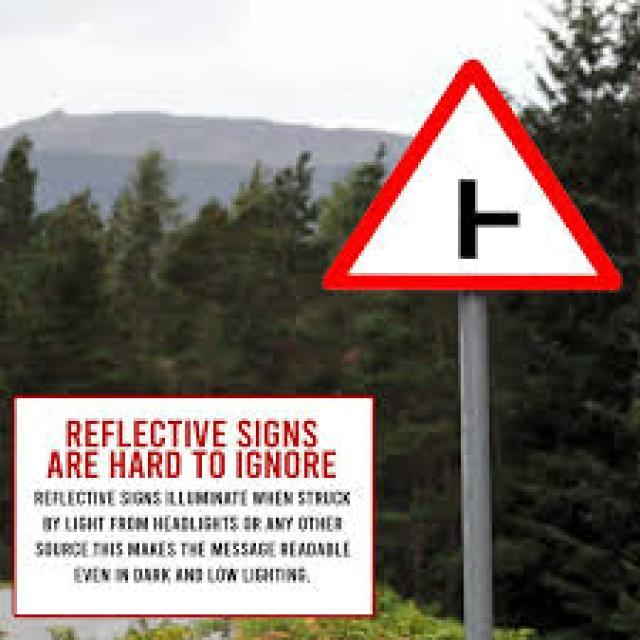side road right: (312, 57, 623, 290)
